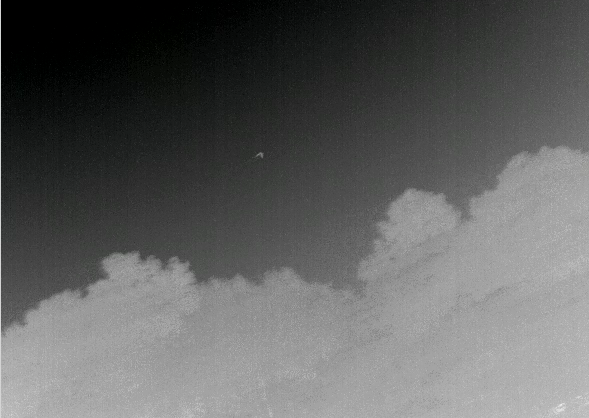dim target: (255, 151, 264, 158)
